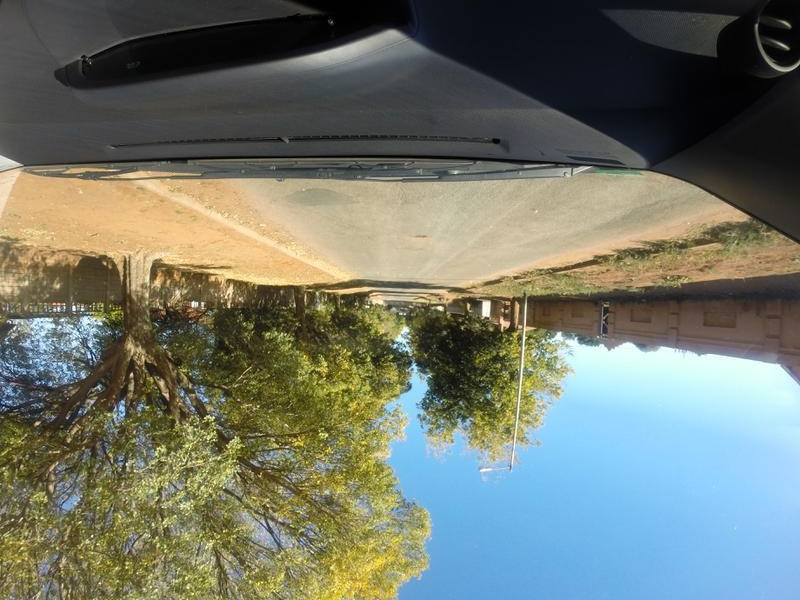pothole: (385, 229, 451, 262)
